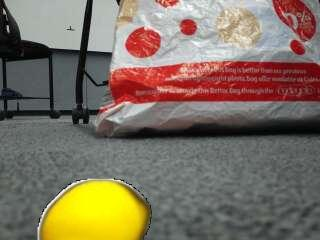lemon: (42, 180, 149, 238)
